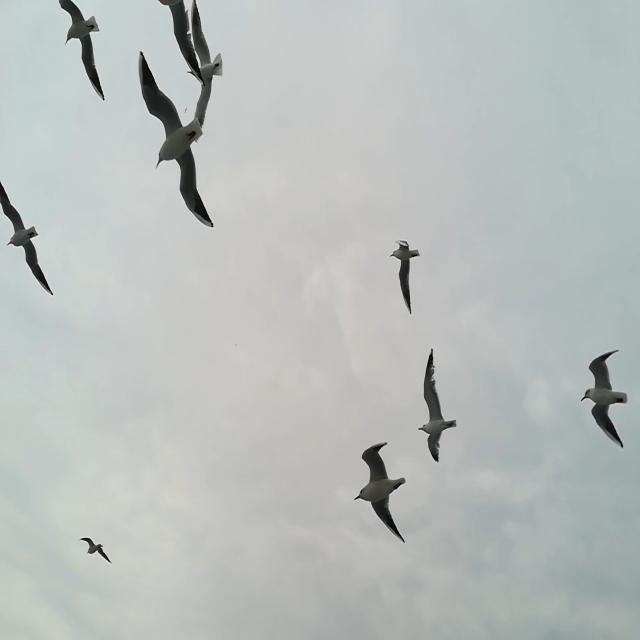bird: (138, 51, 214, 229), (0, 174, 54, 296), (353, 441, 407, 544), (186, 0, 224, 144), (580, 349, 628, 450), (58, 0, 106, 101), (417, 347, 457, 465), (157, 0, 205, 86), (390, 238, 422, 313), (80, 537, 112, 565), (184, 106, 188, 115)
